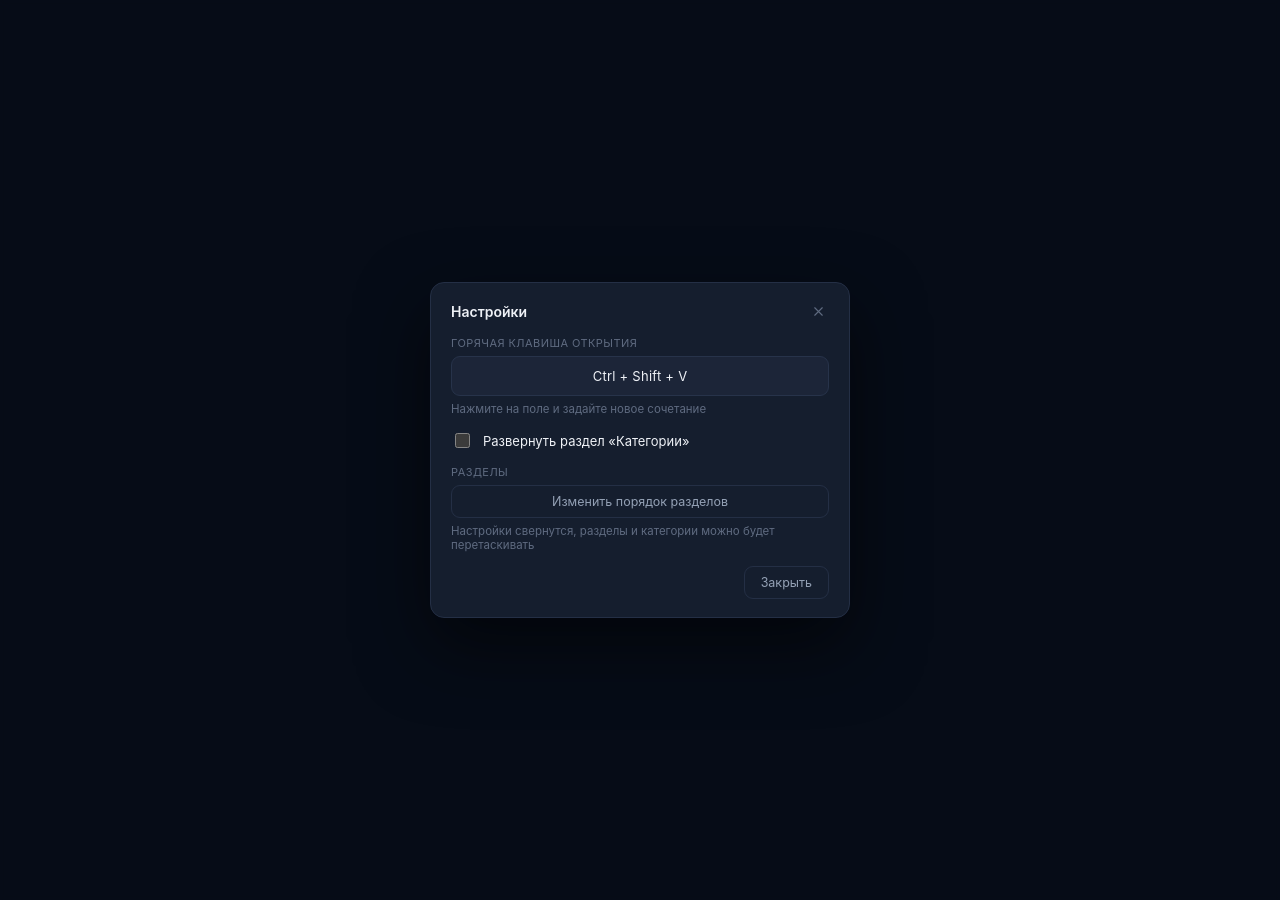
Test case: SettingsDialog › shows the current hotkey and saves a newly captured one
Click the button with aria-label "Горячая клавиша открытия" at x=640, y=376, box [451,356,829,396]
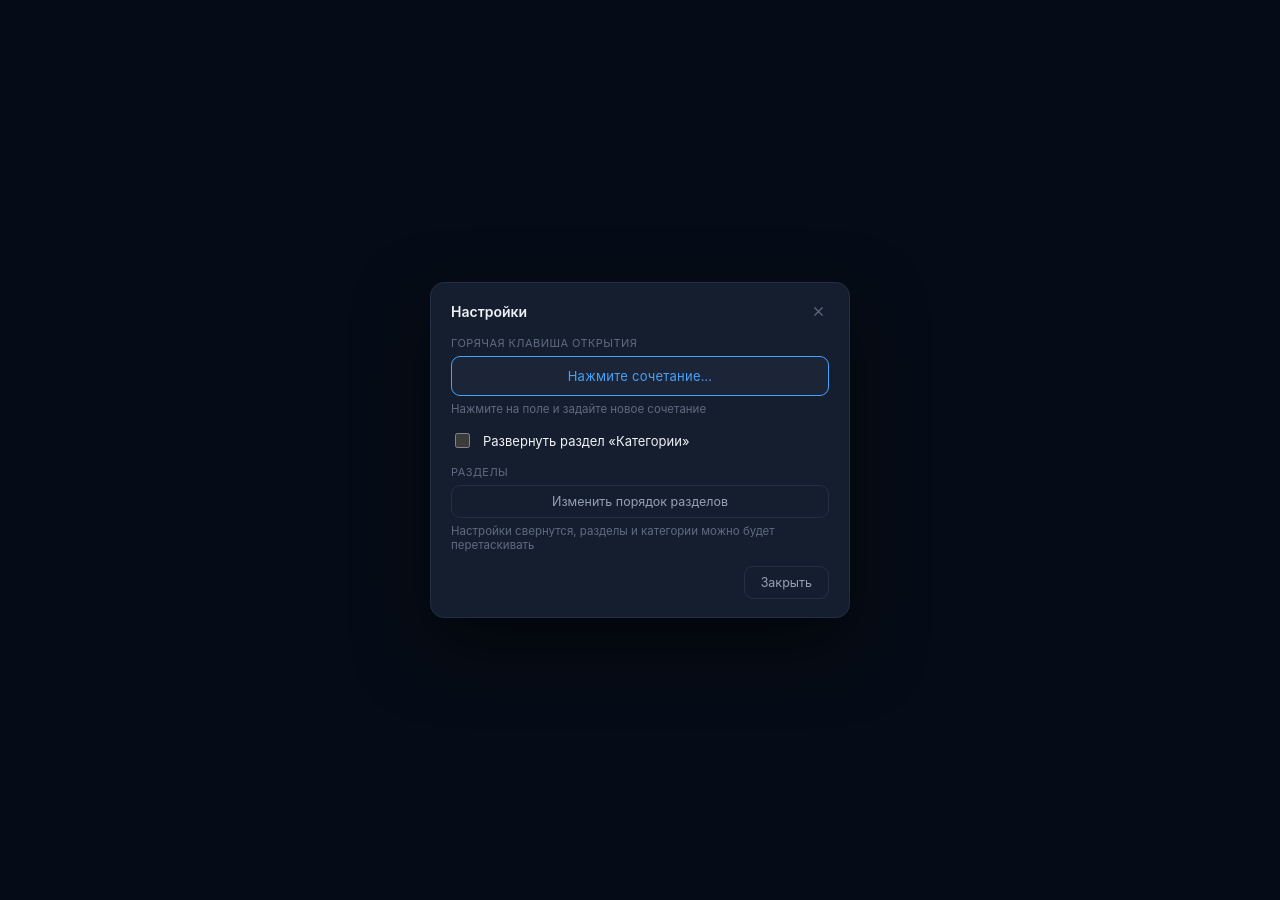
Result: the button "Нажмите сочетание…" is shown
Press b in the button "Нажмите сочетание…", box [451,356,829,396]
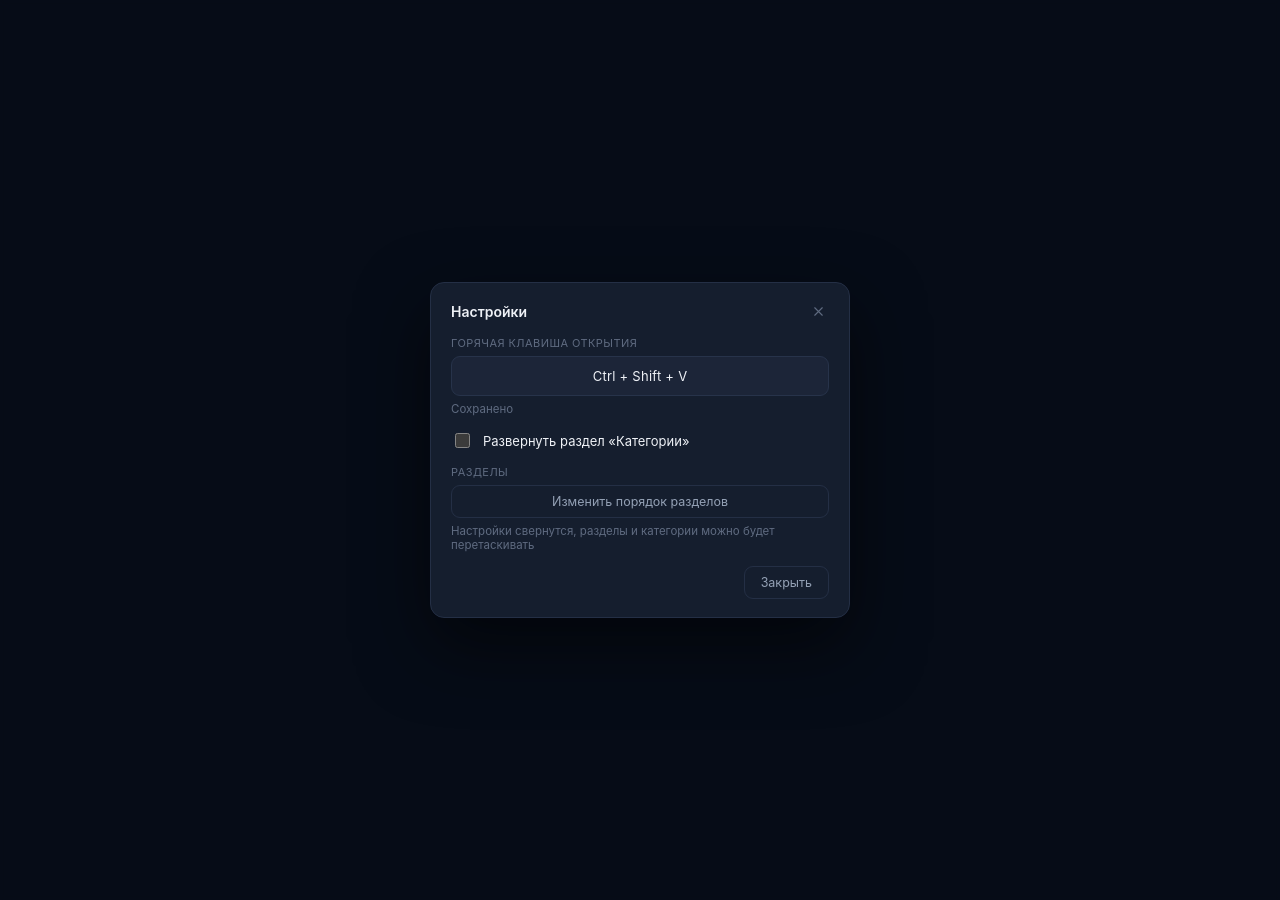
Result: the text "Сохранено" is shown at [451,402,513,416]
